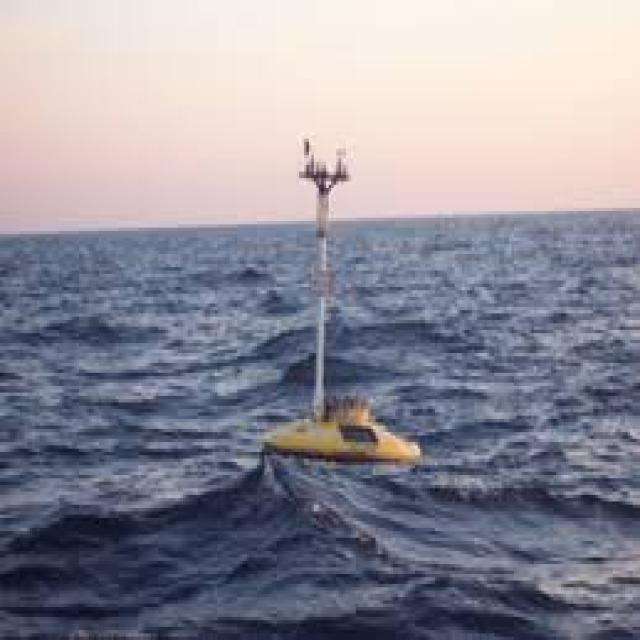buoy: (251, 122, 425, 493)
